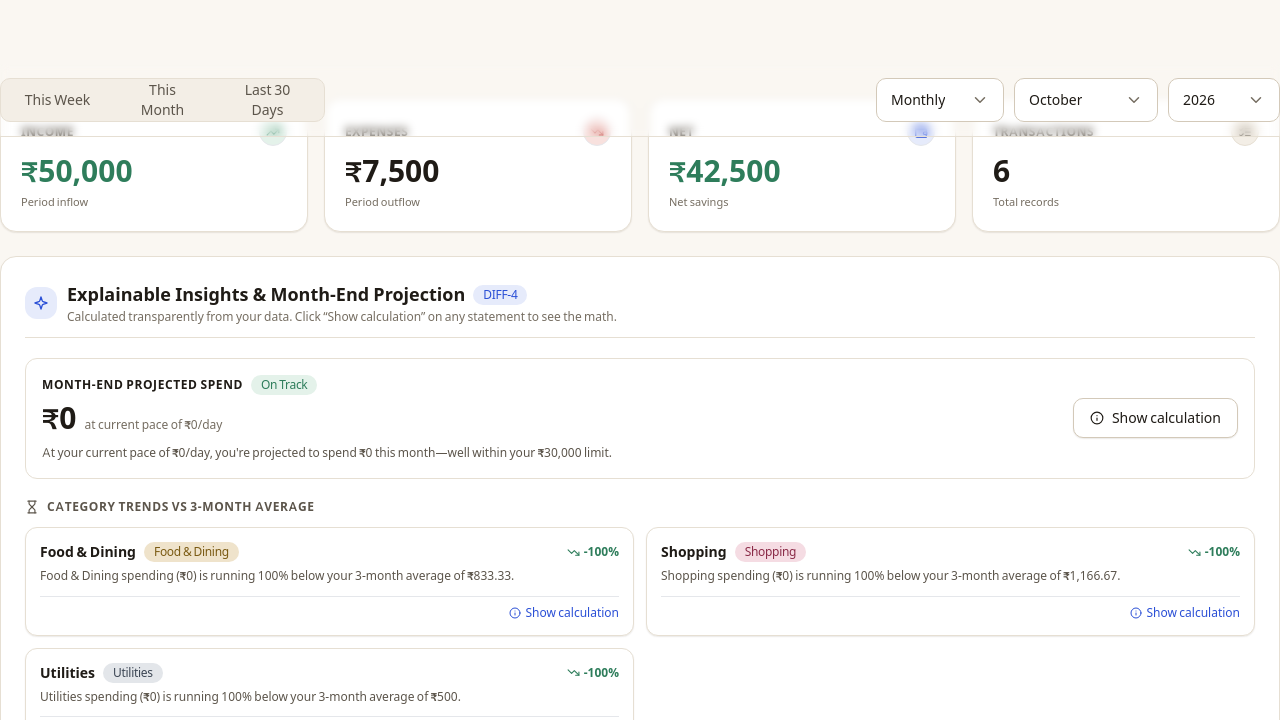
Test: Phase 7: Analytics Screen Redesign › Controls Bar & Selectors › toggling a preset updates selection and period resets it
Click the radio button labelled "This Month". click: {"x": 162, "y": 100}
box: [110,83,215,117]
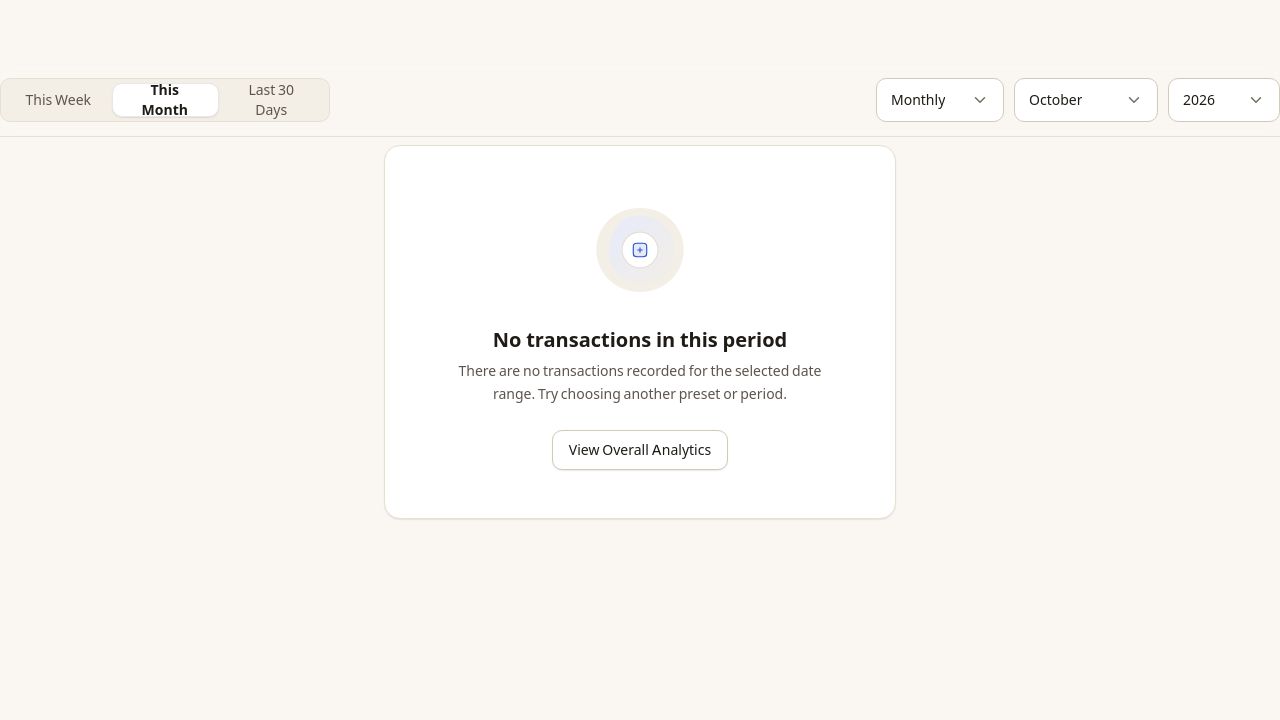
Expected: the radio button labelled "This Month" is checked
Note: Clicking again toggles off
Click the radio button labelled "This Month". click: {"x": 165, "y": 100}
box: [112,83,218,117]
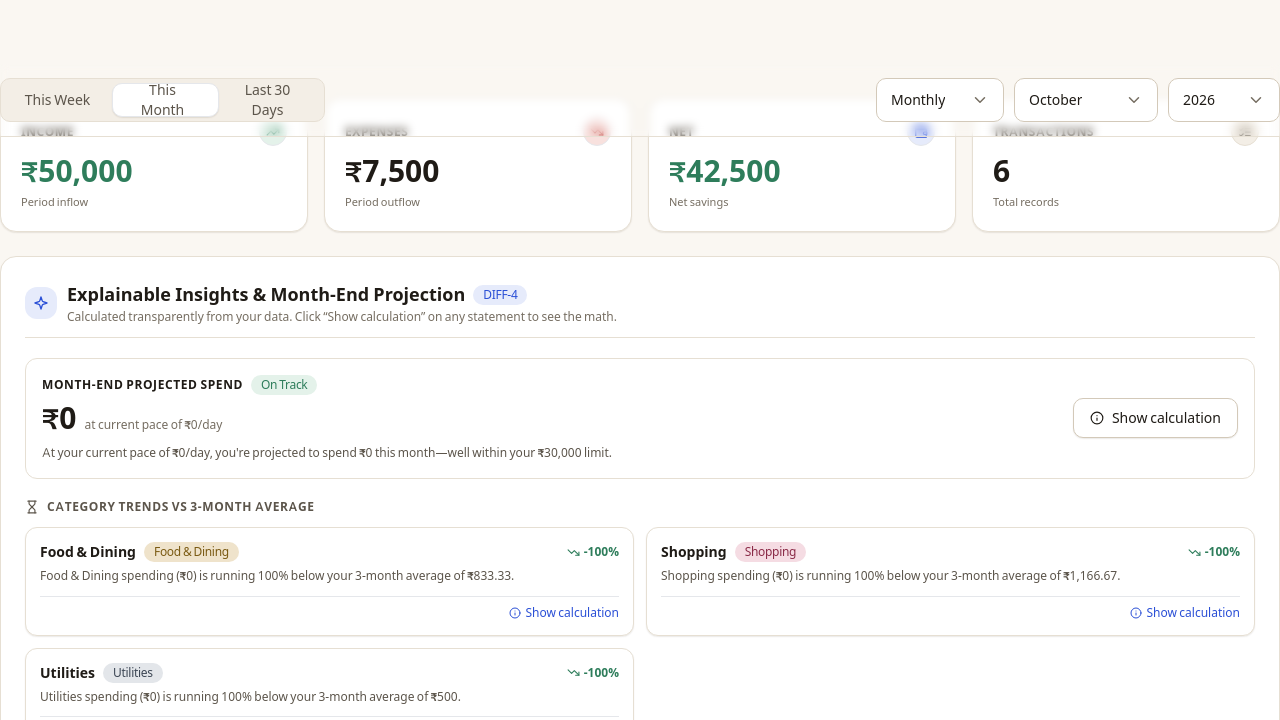
Expected: the radio button labelled "This Month" is not checked, [110,83,215,117]
